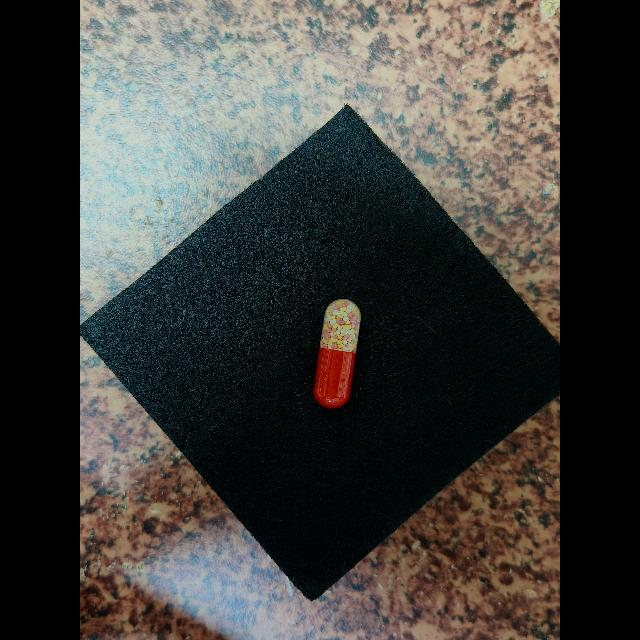Intact Capsule: (314, 298, 361, 409)
